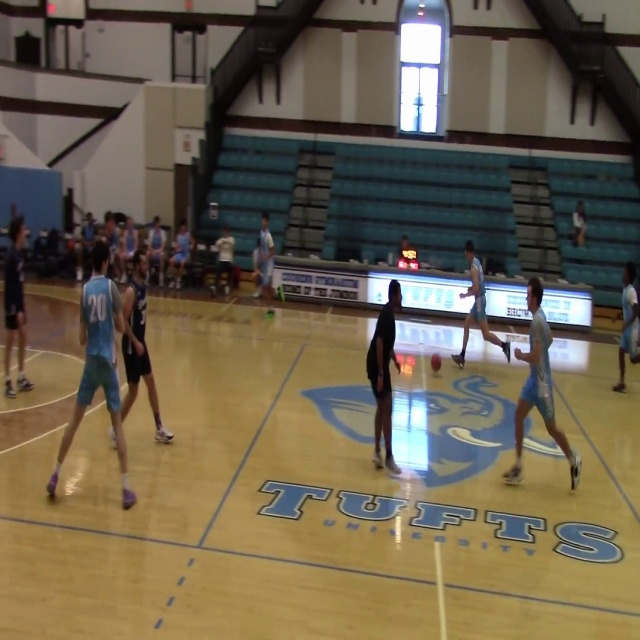Basketball: (430, 353, 441, 371), (265, 309, 275, 318)
